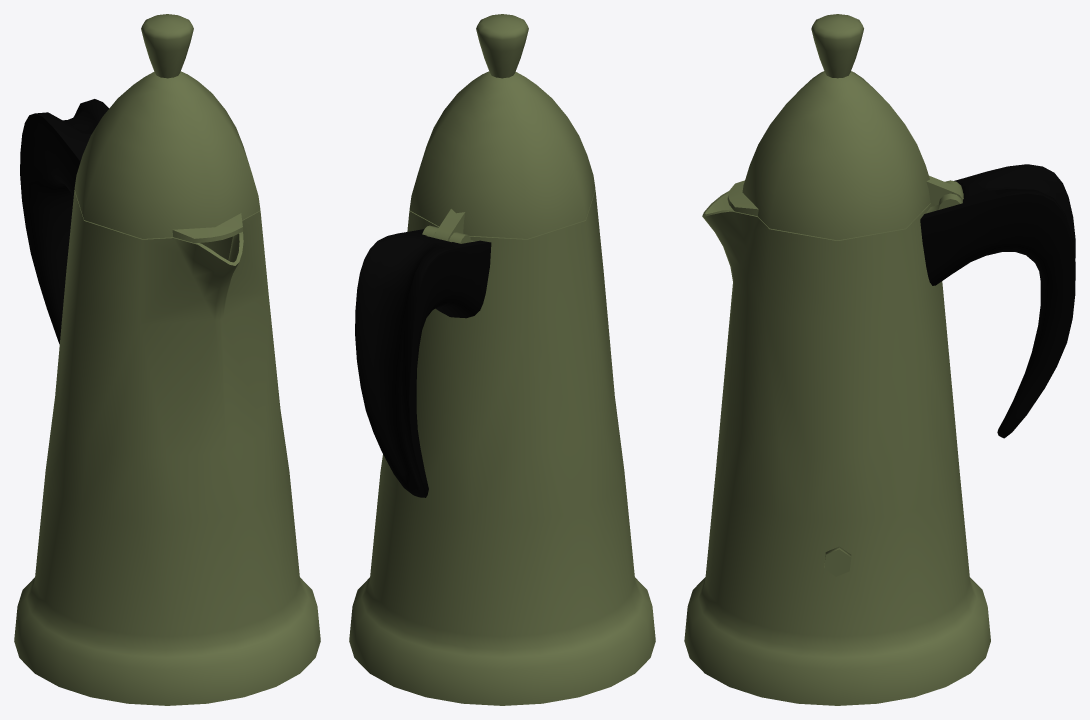
3 renders of one model, left to right at view 1: azimuth 30°, elevation 25°; view 2: azimuth 150°, elevation 25°; view 3: azimuth 270°, elevation 25°, orthographic.
Parts seen in each view (by area): view 1: bodygroup_low, hatgroup_low; view 2: bodygroup_low, hatgroup_low; view 3: bodygroup_low, hatgroup_low.
Part boxes in pixels (x1,y1,x2,y2): bodygroup_low: [14, 99, 320, 705]; hatgroup_low: [74, 14, 260, 243]; bodygroup_low: [349, 190, 655, 705]; hatgroup_low: [409, 14, 595, 241]; bodygroup_low: [684, 164, 1075, 705]; hatgroup_low: [727, 14, 963, 240].
Size of the model in its own units: 10.56 by 23.64 by 13.47.
